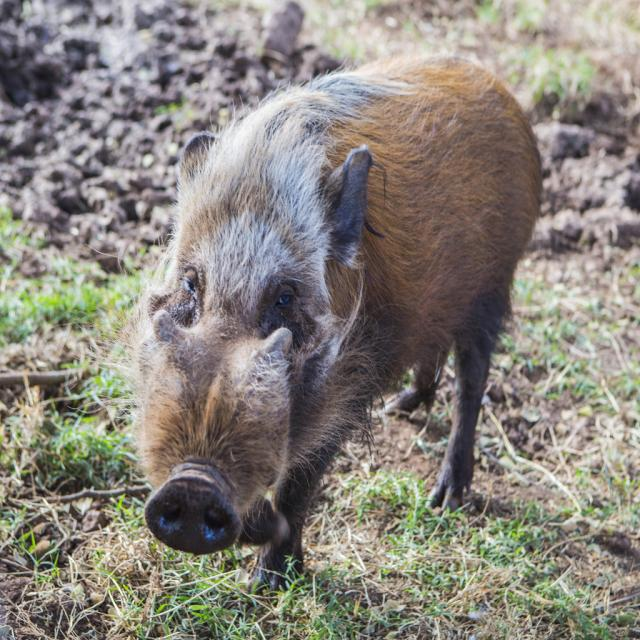Pig: (70, 48, 543, 595)
